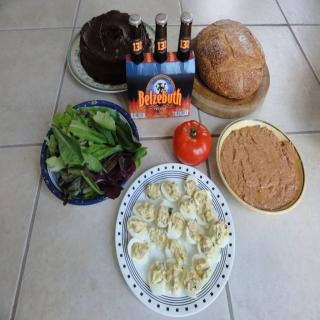tomato: (174, 118, 216, 164)
